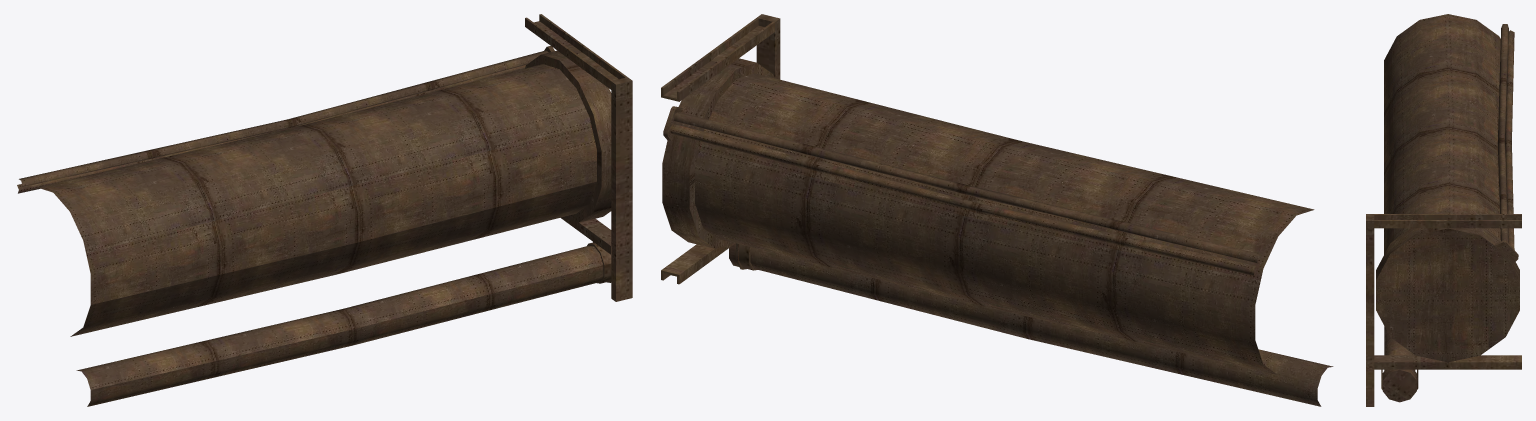
Rendered from pipeset32d_128_001a.glb.
3 renders of one model, left to right at view 1: azimuth 30°, elevation 25°; view 2: azimuth 150°, elevation 25°; view 3: azimuth 270°, elevation 25°, orthographic. The views are drawn at different scales.
Visible parts, largest first — view 1: 0_pipeset_metal; view 2: 0_pipeset_metal; view 3: 0_pipeset_metal.
Boxes of the visible parts, left/top/right/bottom form: 0_pipeset_metal: left=17, top=14, right=632, bottom=406; 0_pipeset_metal: left=661, top=14, right=1333, bottom=406; 0_pipeset_metal: left=1366, top=14, right=1521, bottom=406.
Size of the model in its own units: 3.25 by 1.27 by 0.9654.
1 material, 1 textured.
